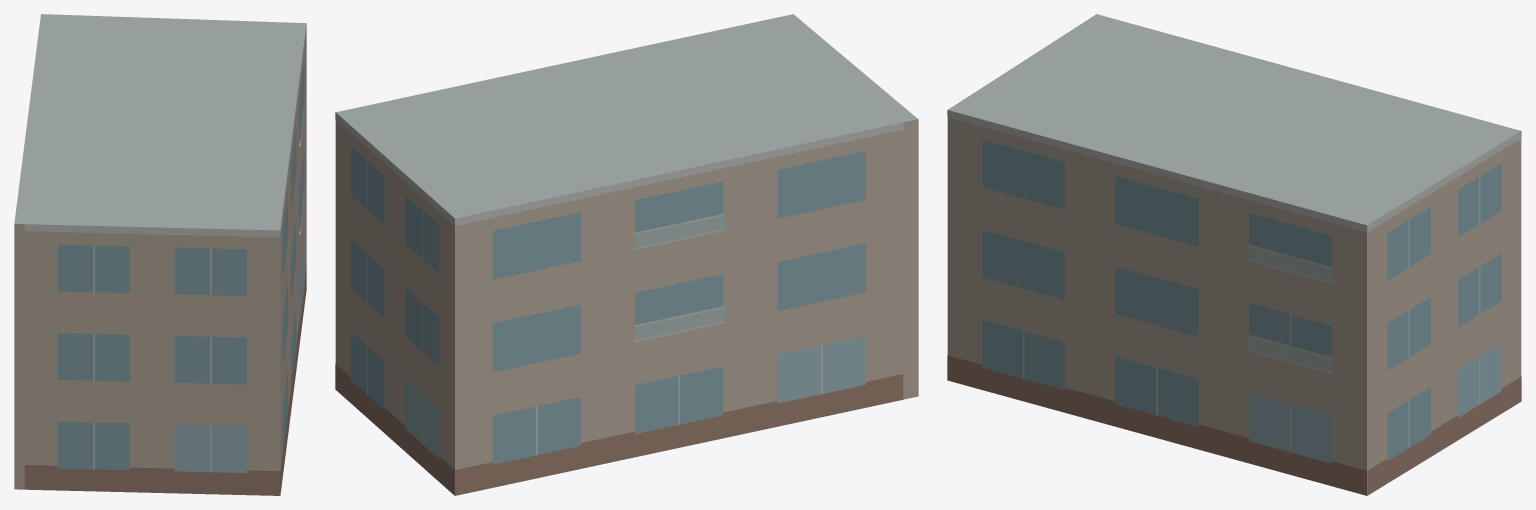
Rendered from survey-upis-32916447.glb.
3 renders of one model, left to right at view 1: azimuth 30°, elevation 25°; view 2: azimuth 150°, elevation 25°; view 3: azimuth 270°, elevation 25°, orthographic. The views are drawn at different scales.
Visible parts, largest first — view 1: survey-upis-32916447.tmp; view 2: survey-upis-32916447.tmp; view 3: survey-upis-32916447.tmp.
Part boxes in pixels (x1,y1,x2,y2): survey-upis-32916447.tmp: [14, 14, 306, 495]; survey-upis-32916447.tmp: [335, 14, 918, 495]; survey-upis-32916447.tmp: [947, 14, 1521, 495].
Size of the model in its own units: 15.34 by 9.15 by 17.61.
